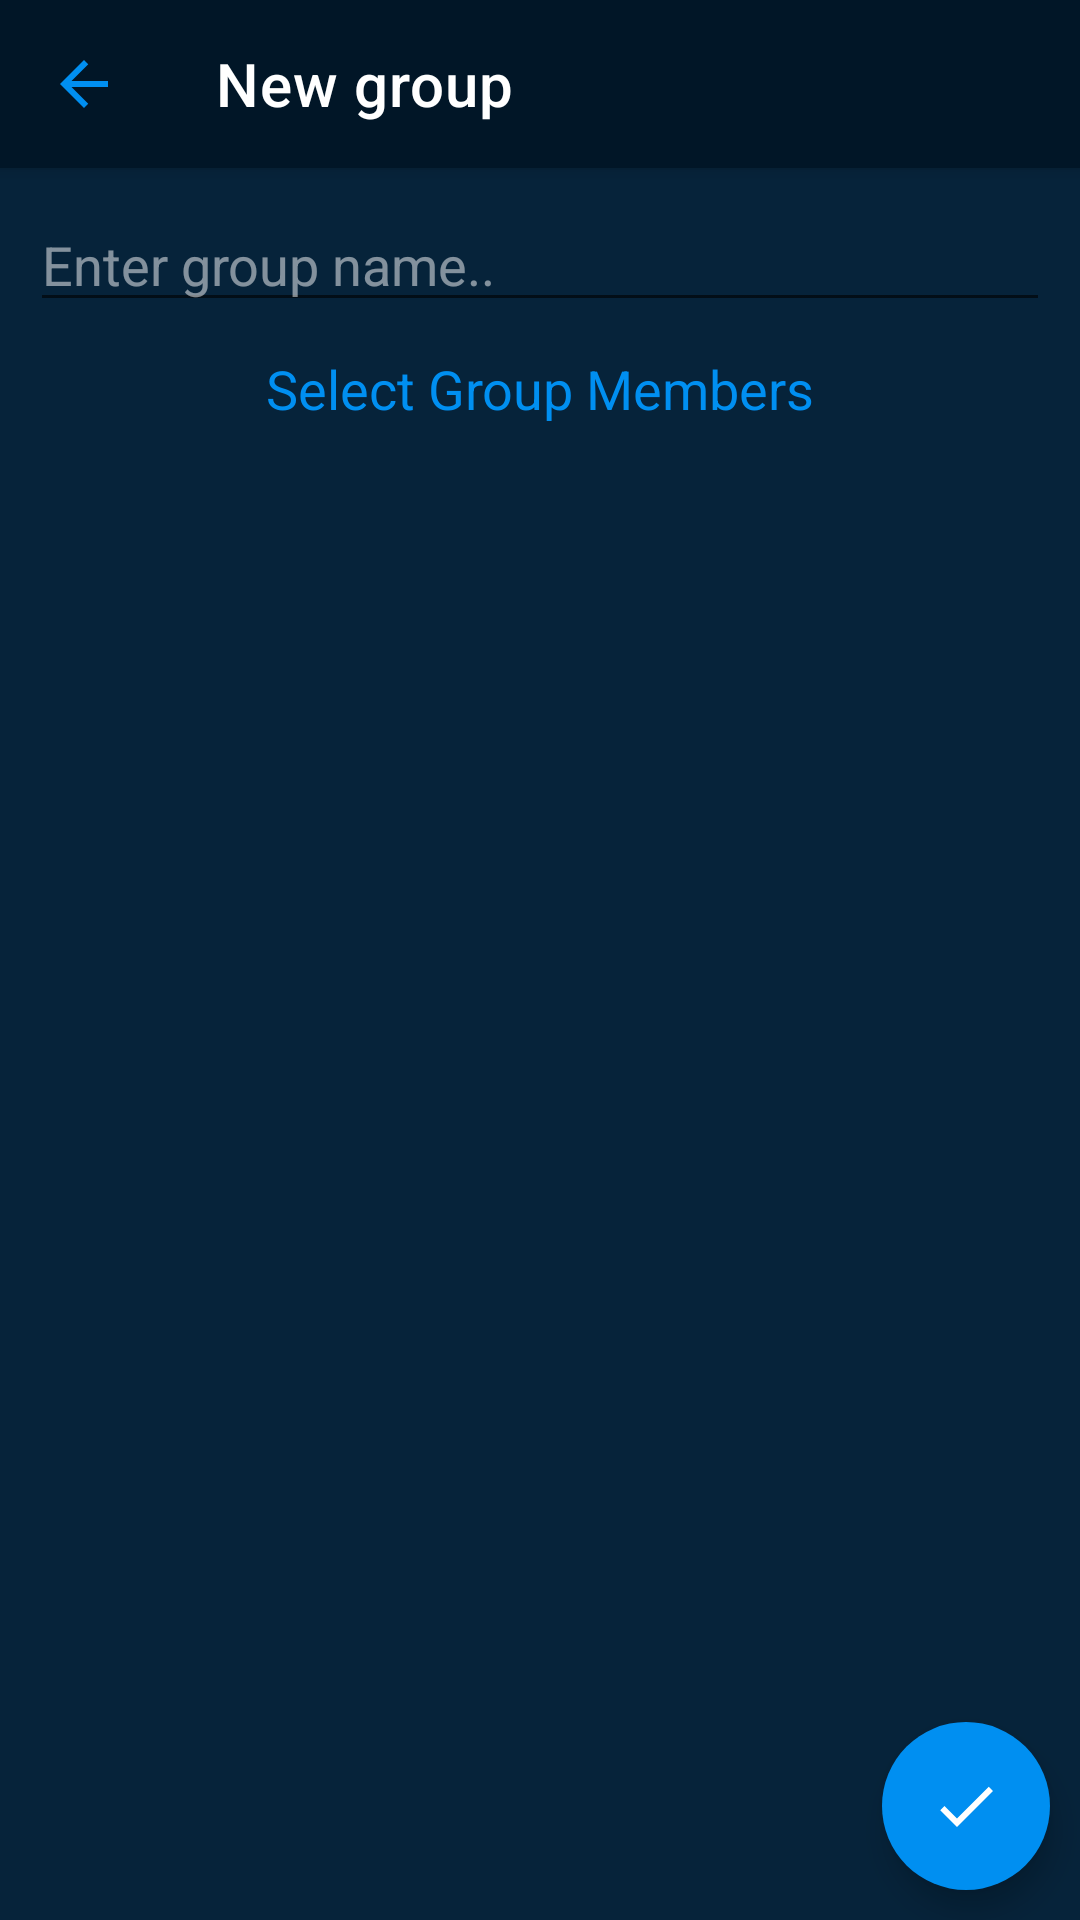

Icon click points for this 1080x1920 phone screenshot, format (x,y):
check: (966,1806)
